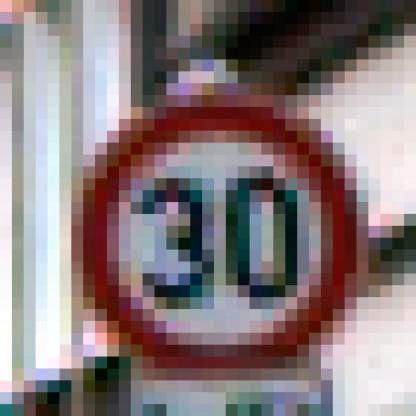Speed Limit -30-: (77, 87, 372, 373)
